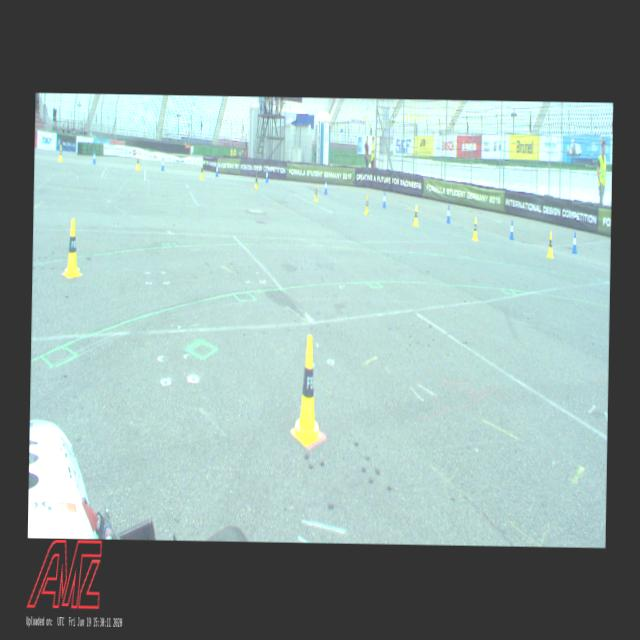blue_cone: (571, 231, 577, 254), (508, 220, 514, 240), (446, 205, 450, 223), (382, 192, 386, 208), (92, 149, 96, 164), (264, 169, 268, 182), (324, 178, 327, 194), (161, 157, 164, 170), (215, 164, 218, 176)
yellow_cone: (290, 335, 324, 447), (62, 218, 82, 278), (546, 231, 554, 258), (470, 217, 478, 240), (413, 204, 418, 227), (364, 195, 369, 214), (58, 144, 63, 161), (314, 184, 318, 202), (136, 153, 140, 170), (254, 173, 258, 189), (200, 163, 203, 179)
